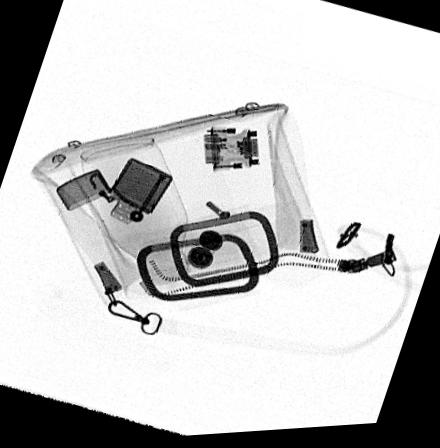Lighter: (55, 158, 173, 227)
